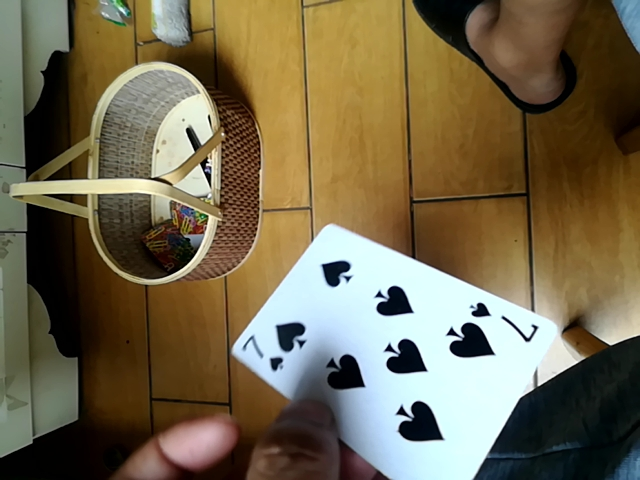ht 7: (231, 219, 568, 478)
